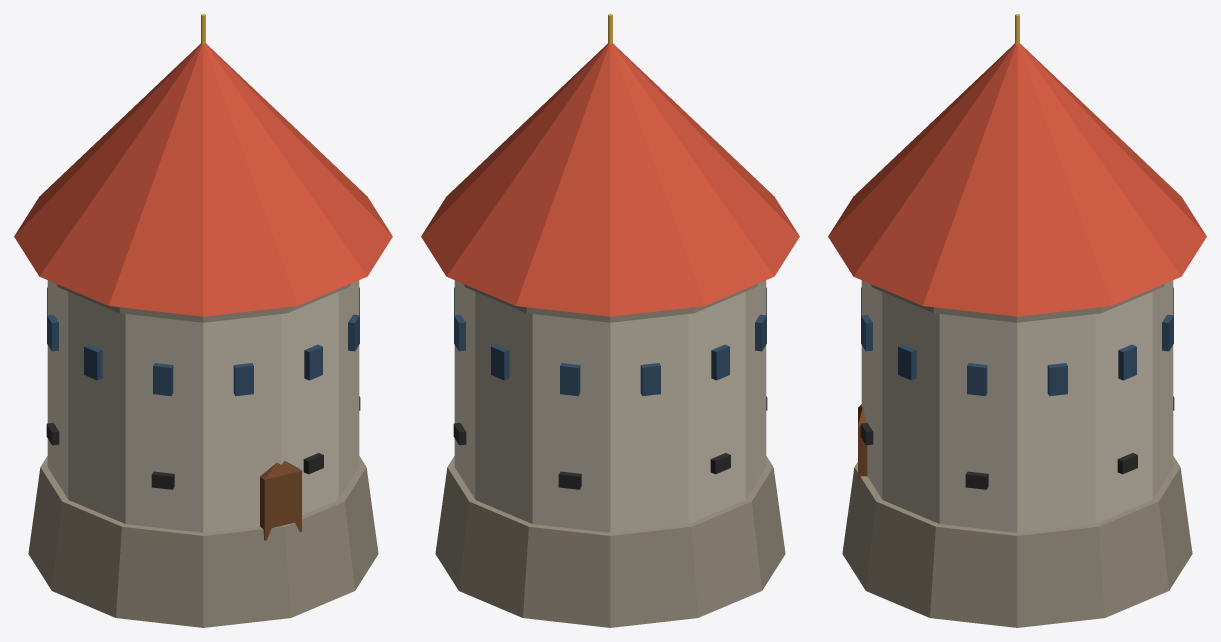
File: dravatower.glb
3 renders of one model, left to right at view 1: azimuth 30°, elevation 25°; view 2: azimuth 150°, elevation 25°; view 3: azimuth 270°, elevation 25°, orthographic.
Visible parts, largest first — view 1: DravaTower; view 2: DravaTower; view 3: DravaTower.
Part boxes in pixels (bbox=[...]): DravaTower: bbox=[14, 14, 392, 627]; DravaTower: bbox=[421, 14, 799, 627]; DravaTower: bbox=[828, 14, 1206, 627].
Bounding box in the file's own units: 15.8 × 24.8 × 15.8.
